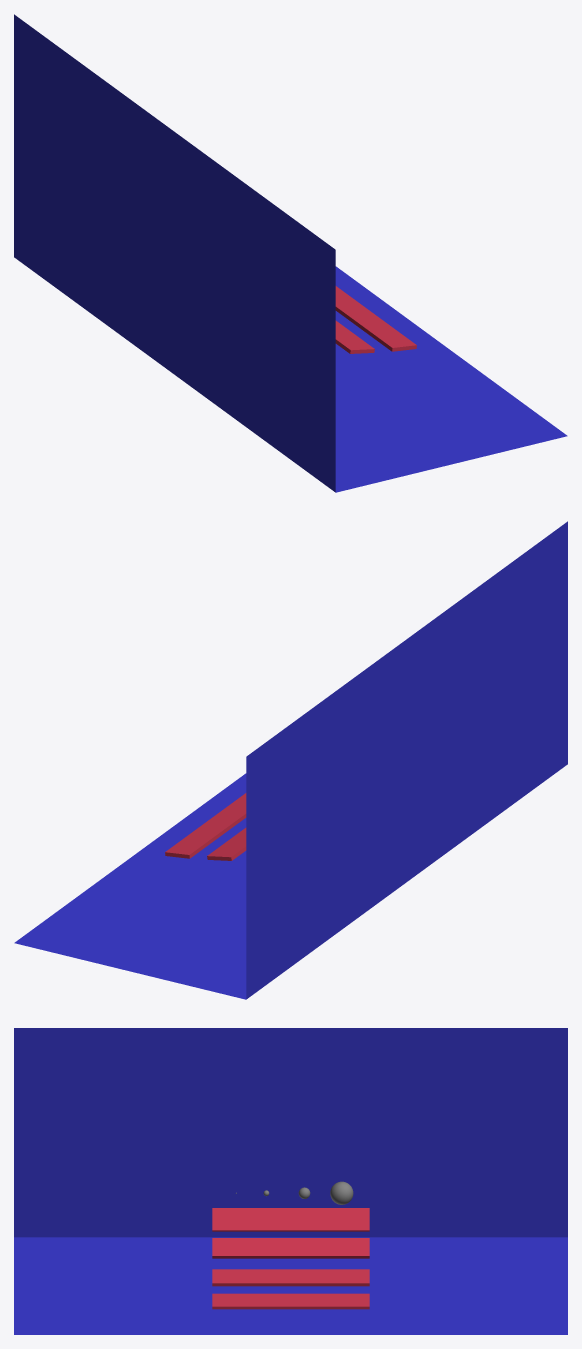
The model's file is veach-mis.obj.
The picture shows the model from 3 angles, top to bottom: view 1: azimuth 30°, elevation 25°; view 2: azimuth 150°, elevation 25°; view 3: azimuth 270°, elevation 25°; orthographic projection. The views are drawn at different scales.
Bounding box in the file's own units: 19.8 × 19.8 × 47.52.
